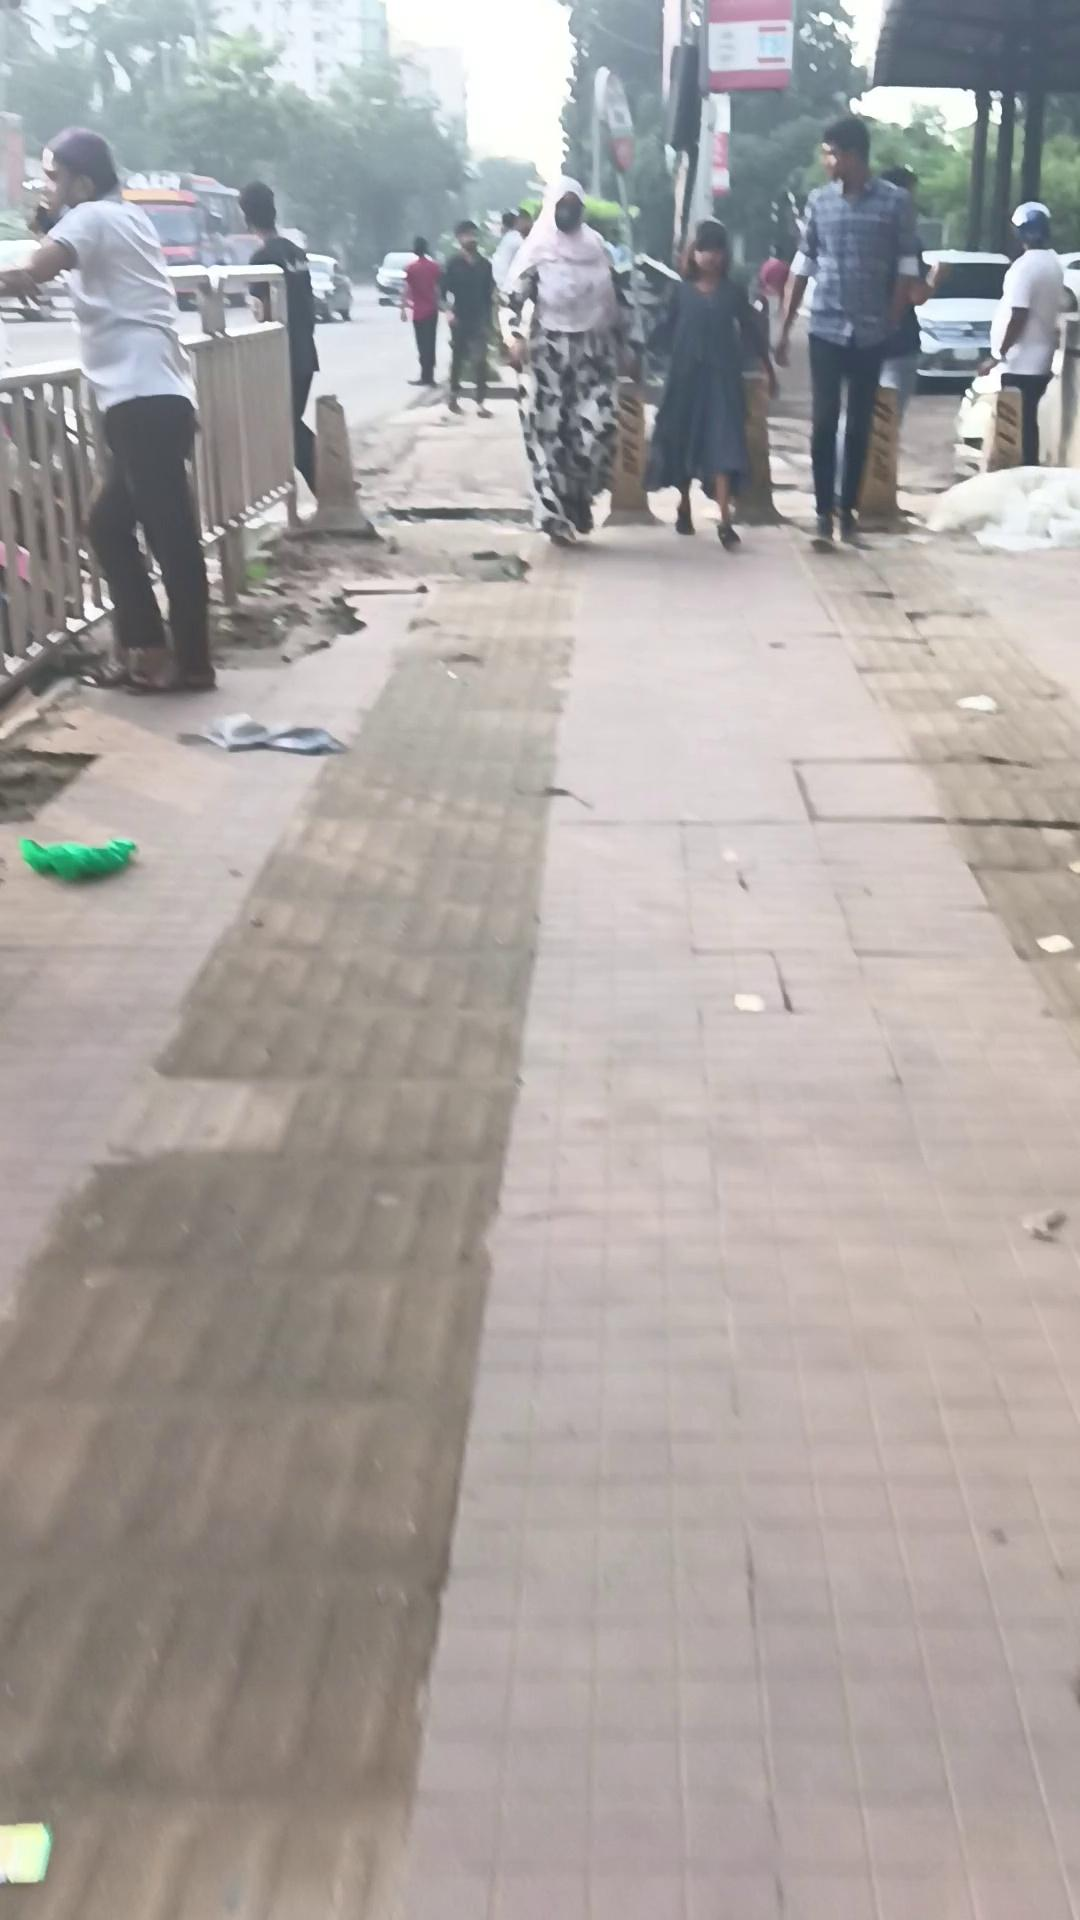Muddy road: (771, 117, 931, 545), (640, 218, 779, 550), (505, 175, 625, 545), (236, 181, 320, 500), (980, 200, 1067, 465), (439, 220, 498, 418), (398, 235, 443, 386), (753, 243, 789, 319)
Potted-plant: (3, 262, 1075, 1913)
